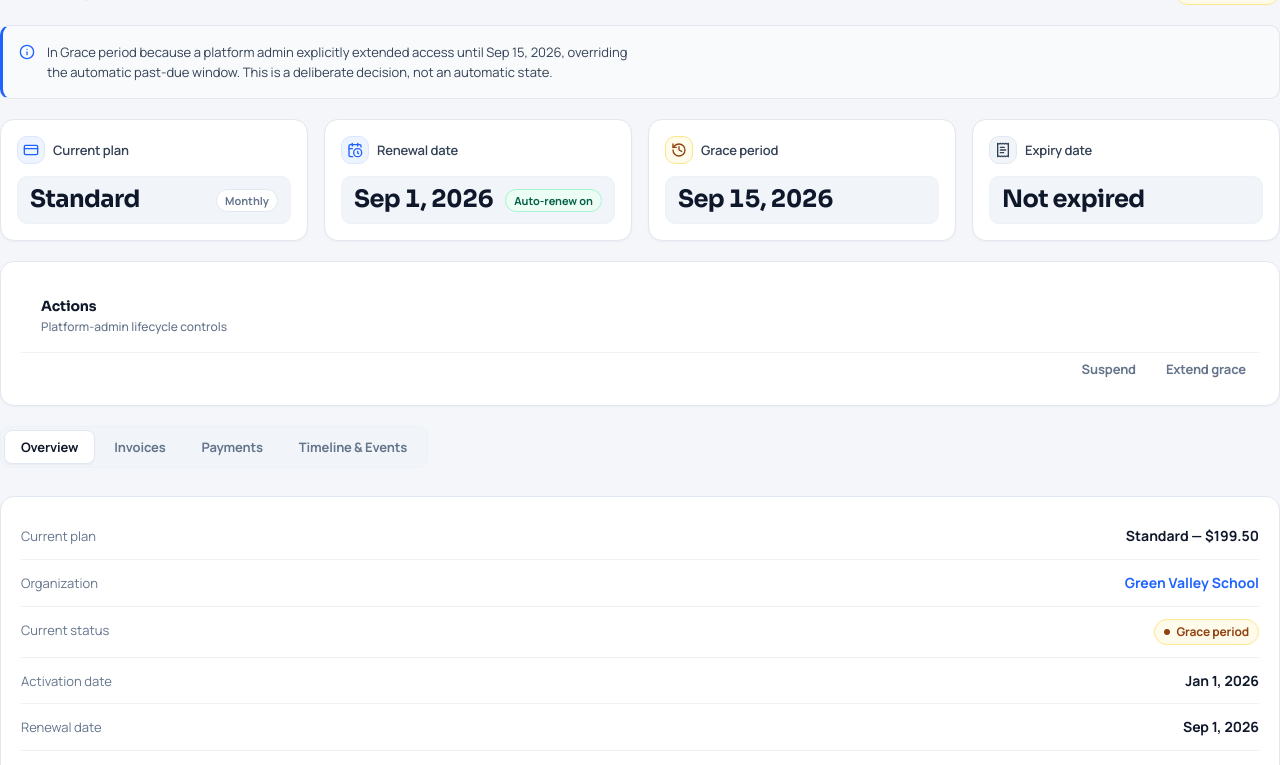
Test: SubscriptionDetailsPage › switches to Timeline and shows the status timeline and audit timeline
The width and height of the screenshot is (1280, 765).
Expected: the link "Green Valley School" is shown, [1125, 573, 1259, 592]
Step 1. Click the tab "Timeline & Events" → (353,447), box [282, 430, 424, 464]
(page scrolled)
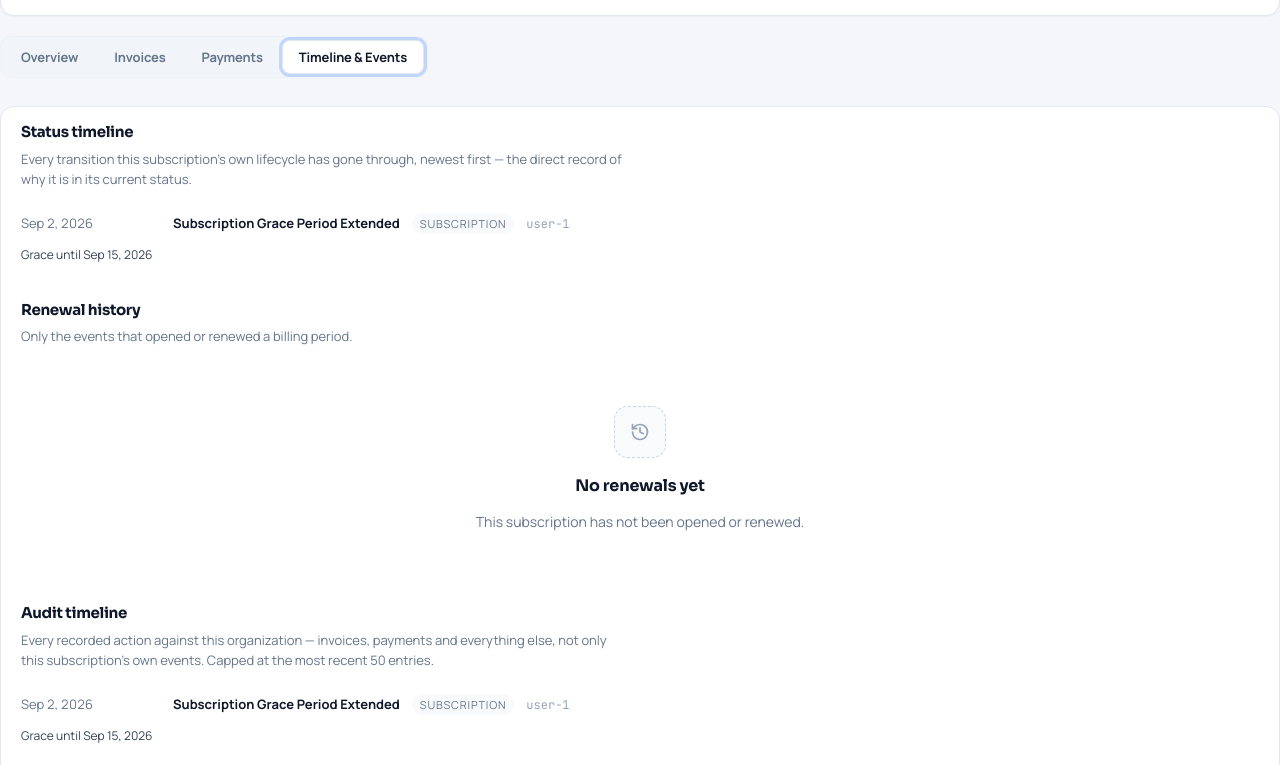
Expected: the heading "Status timeline" is shown, [21, 122, 133, 141]
Expected: the heading "Renewal history" is shown, [21, 300, 140, 318]
Expected: the heading "Audit timeline" is shown, [21, 603, 127, 622]
